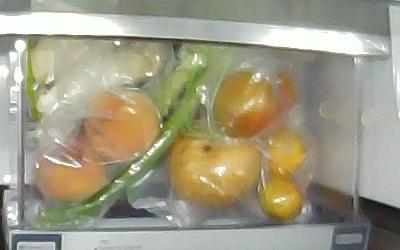peach_vinyl: (83, 90, 161, 156), (37, 139, 105, 203)
pear_vinyl: (170, 132, 260, 208)
tangerine_vinyl: (263, 129, 307, 179), (257, 176, 305, 219)
tomato_vinyl: (211, 72, 276, 135), (267, 69, 298, 117)
